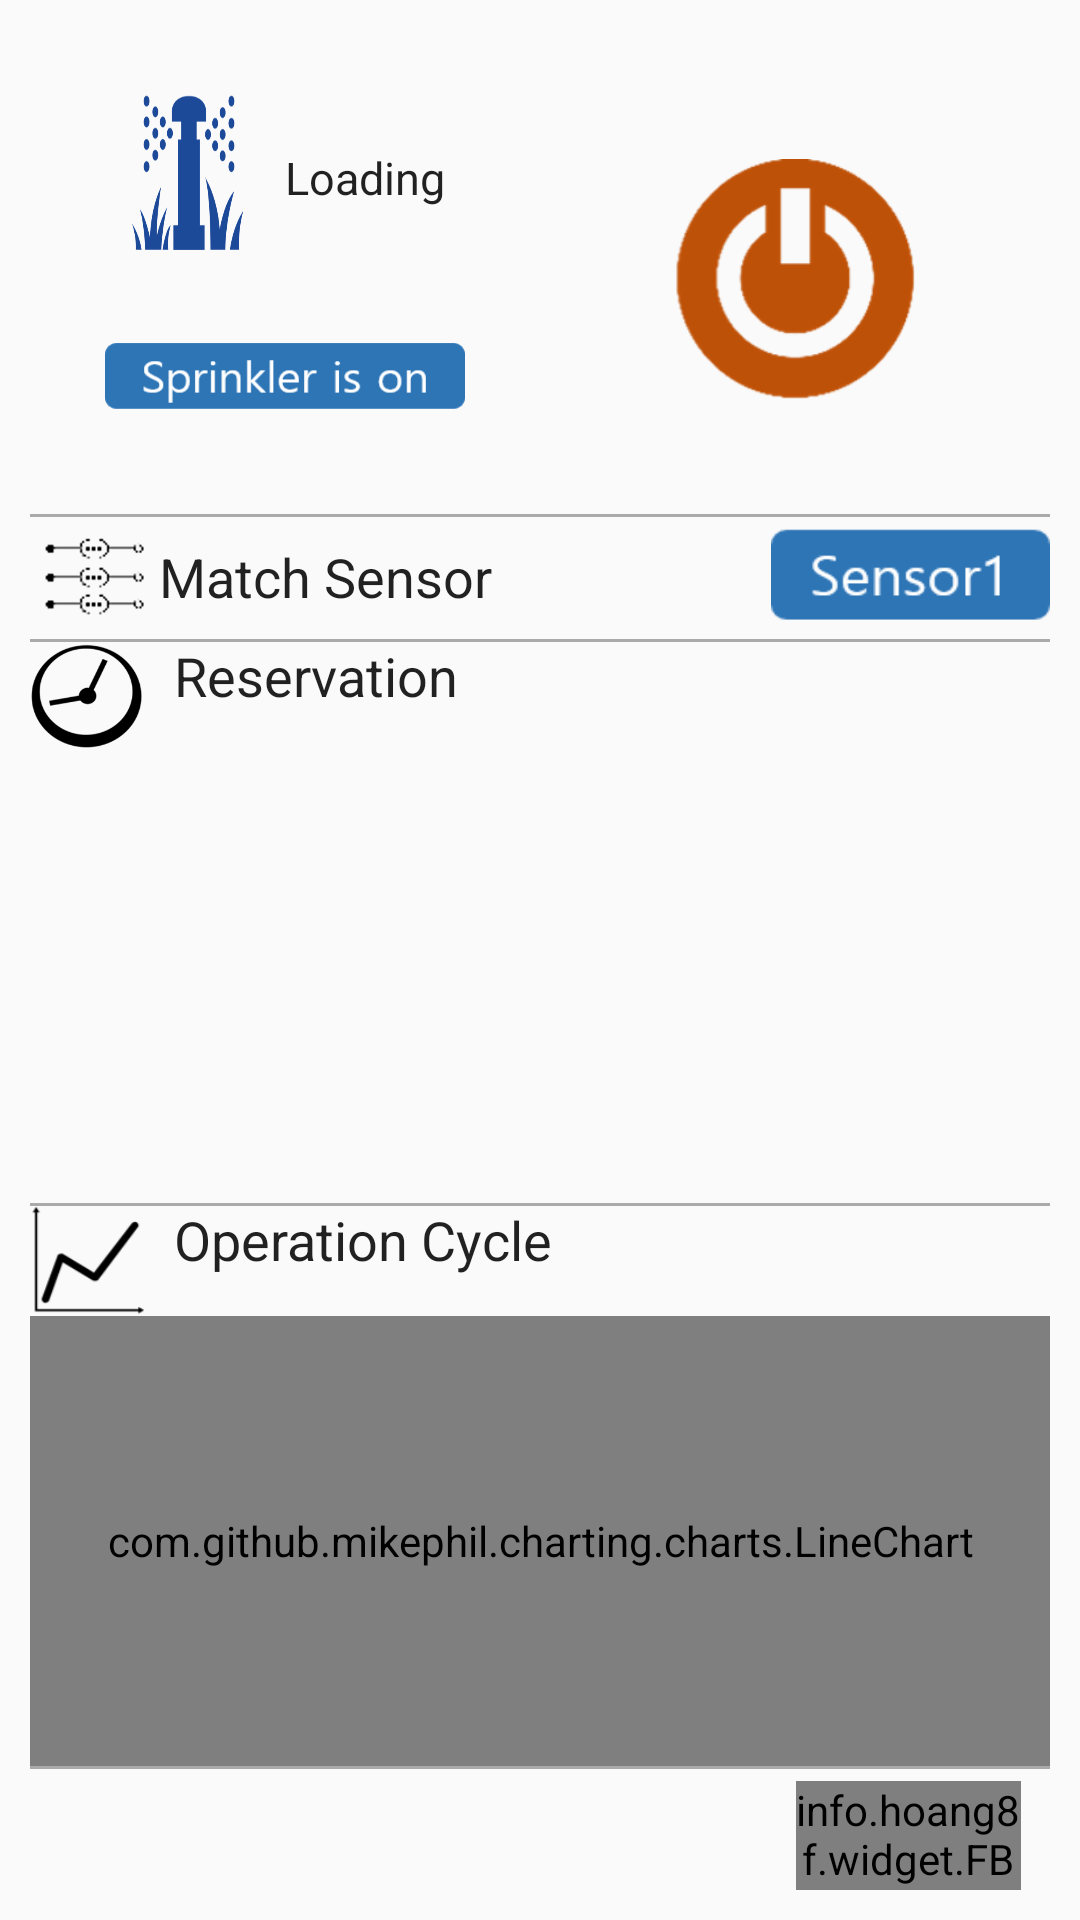

Locate icon controls on the screen. Image size 1080px×1920px, boxes as Rect(x1, y1, x2, y2).
graph: Rect(32, 1207, 144, 1314)
power: Rect(676, 159, 914, 399)
sprinkler on: Rect(132, 95, 243, 250)
